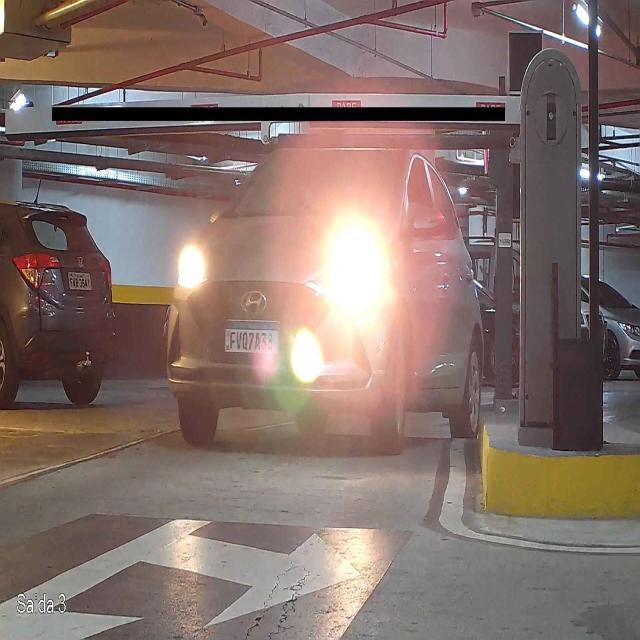mercosul_plate: (222, 318, 283, 357)
